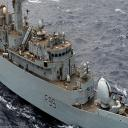Fragata: (1, 1, 127, 90)
